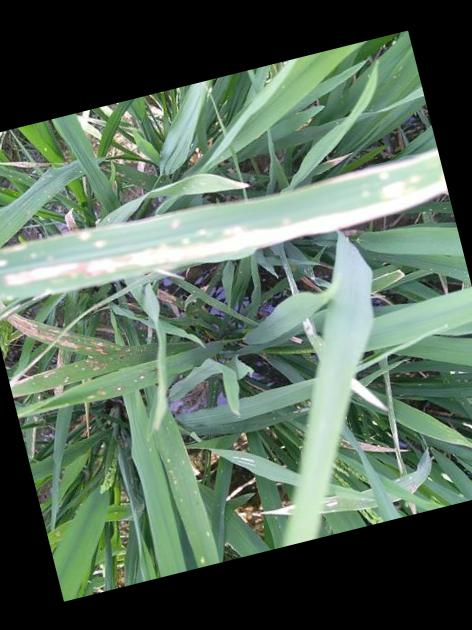Leaf Streak: (0, 144, 448, 303), (9, 345, 156, 400), (16, 366, 156, 418), (3, 312, 122, 355), (356, 441, 396, 451), (155, 287, 179, 302), (341, 437, 354, 446)
